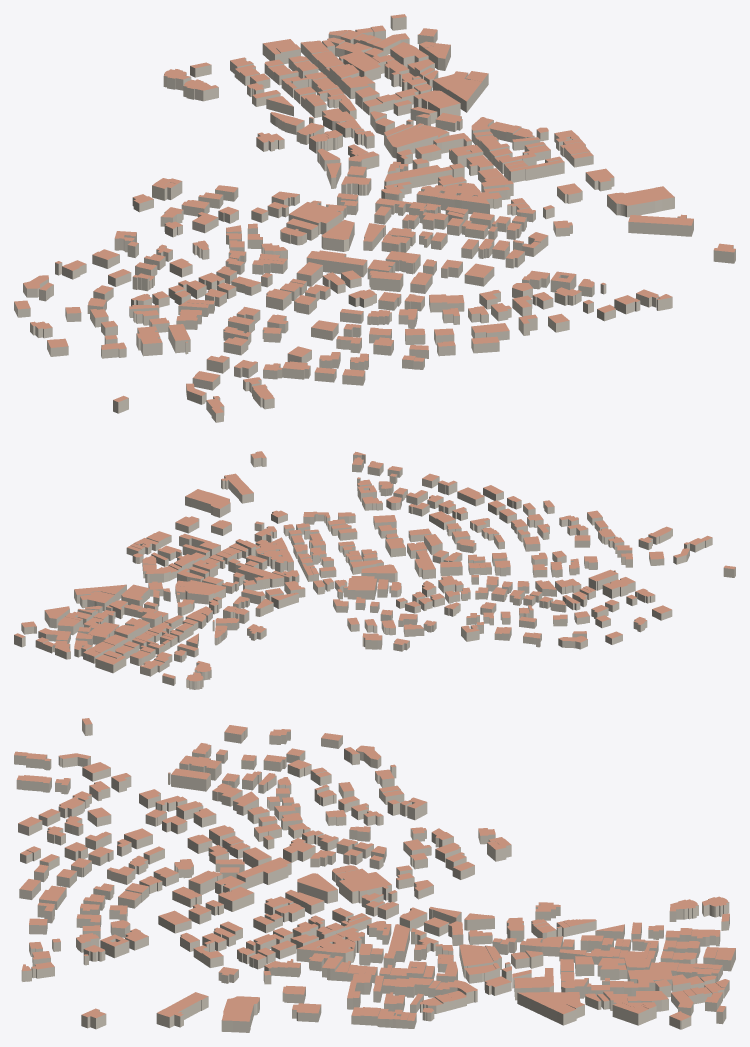
The model's file is tile_-25_9_buildings.glb.
3 views of the same model, one above another, from view 1: azimuth 30°, elevation 25°; view 2: azimuth 150°, elevation 25°; view 3: azimuth 270°, elevation 25° (orthographic). The views are drawn at different scales.
Visible parts, largest first — view 1: mat_wall_residential-col, mat_roof-col; view 2: mat_wall_residential-col, mat_roof-col; view 3: mat_wall_residential-col, mat_roof-col.
Part boxes in pixels (x1,y1,x2,y2): mat_wall_residential-col: [14, 16, 735, 422]; mat_roof-col: [14, 14, 735, 413]; mat_wall_residential-col: [14, 452, 735, 689]; mat_roof-col: [14, 451, 735, 681]; mat_wall_residential-col: [14, 719, 735, 1032]; mat_roof-col: [14, 718, 735, 1021].
Bounding box in the file's own units: 512 × 9.72 × 514.
